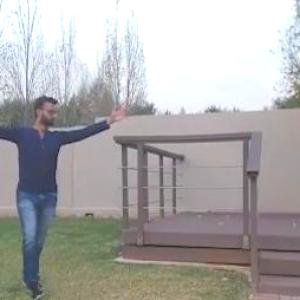takeoff: (0, 92, 134, 299)
